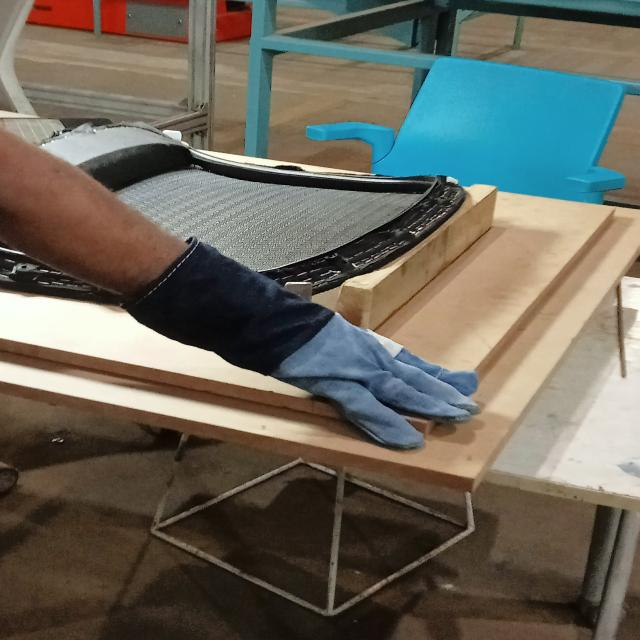Gloves-Detection: (138, 230, 476, 437)
